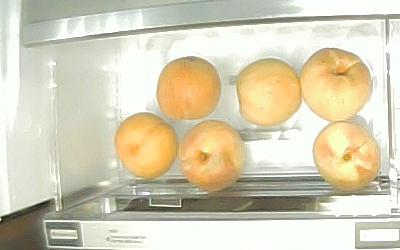peach: (298, 47, 373, 121), (235, 57, 302, 127), (313, 121, 380, 191), (179, 119, 242, 190), (114, 112, 178, 180), (156, 56, 220, 120)
